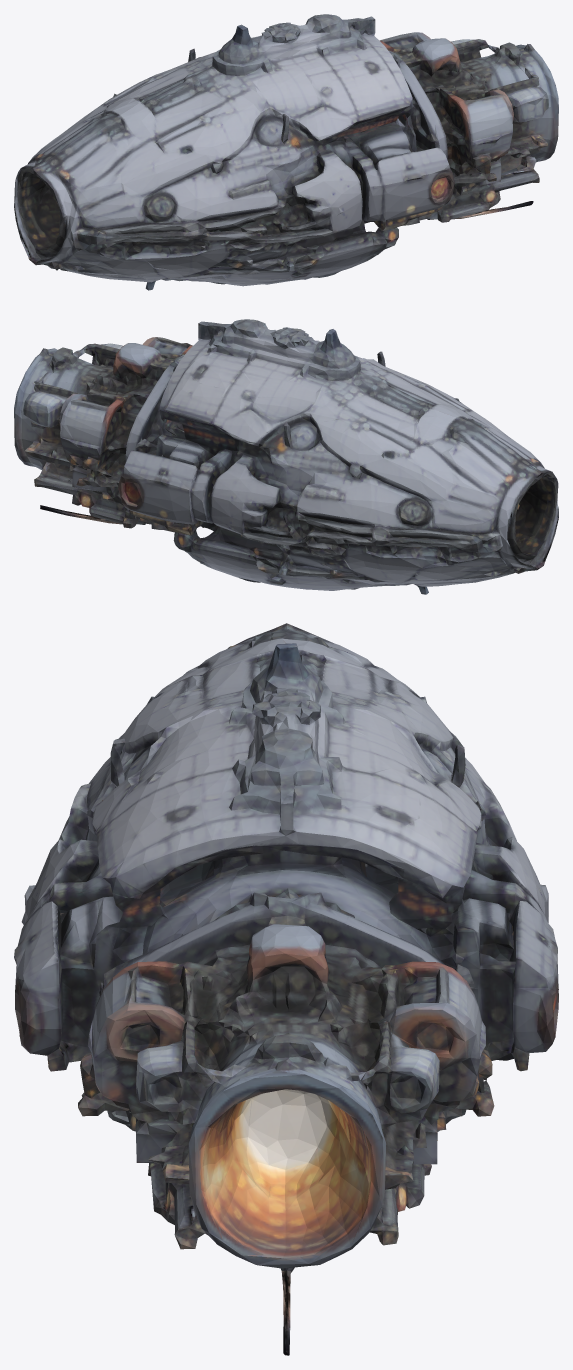
The model's file is Evil Eye Gun Platform.glb.
3 renders of one model, top to bottom at view 1: azimuth 30°, elevation 25°; view 2: azimuth 150°, elevation 25°; view 3: azimuth 270°, elevation 25°, orthographic. The views are drawn at different scales.
Parts seen in each view (by area): view 1: world; view 2: world; view 3: world.
Part boxes in pixels (box(x1,y1,x2,y2)): world: box(14, 14, 558, 290); world: box(14, 319, 558, 594); world: box(14, 623, 558, 1355).
Size of the model in its own units: 1 by 0.5122 by 0.5161.
1 material, 1 textured.
